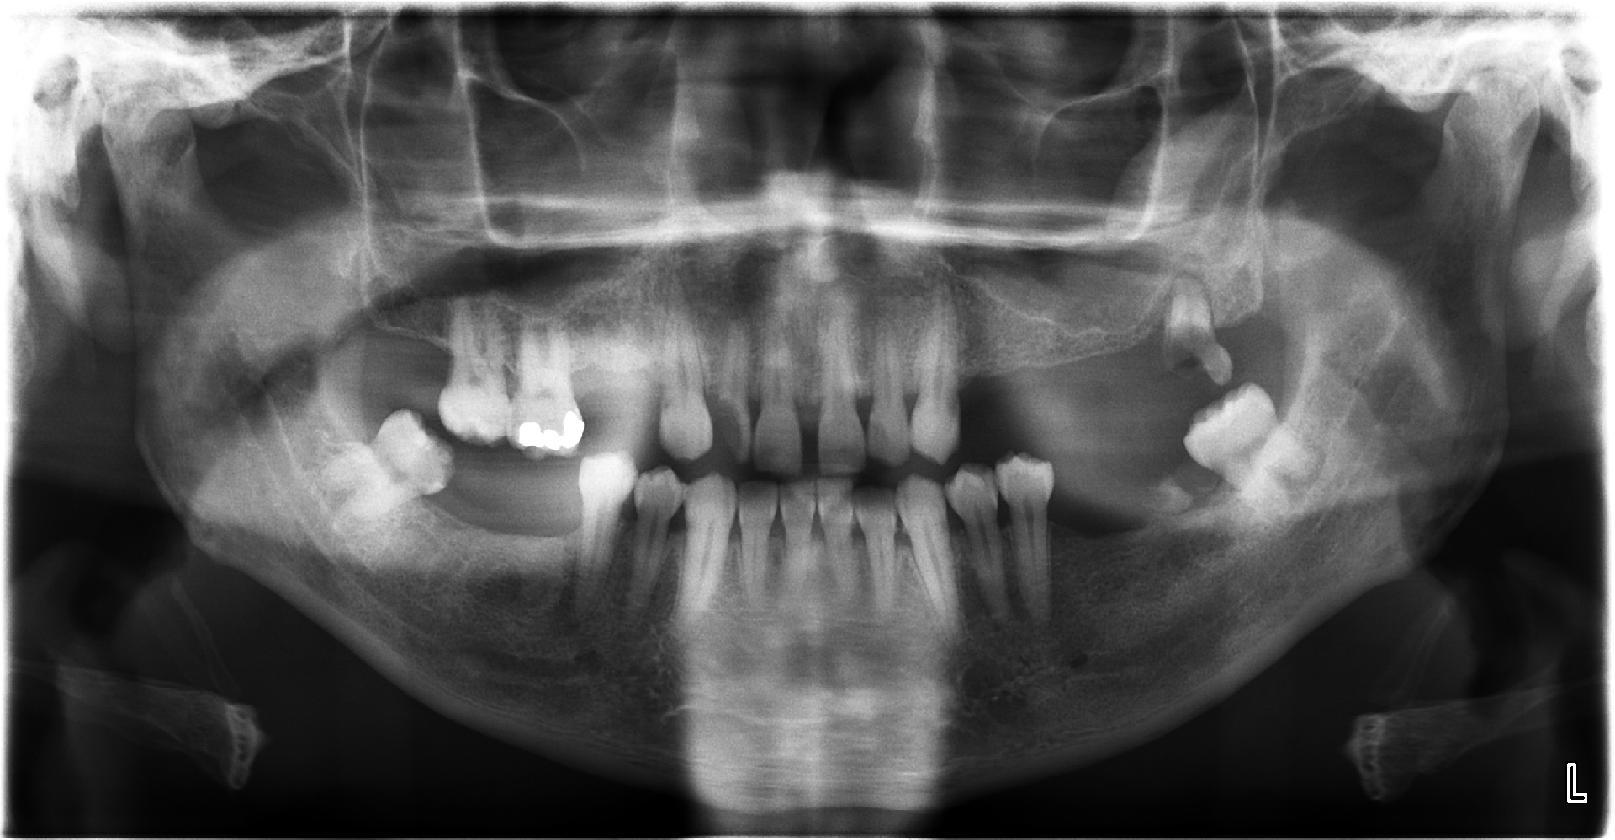Erupted: (1174, 385, 1340, 531), (322, 405, 469, 531)
